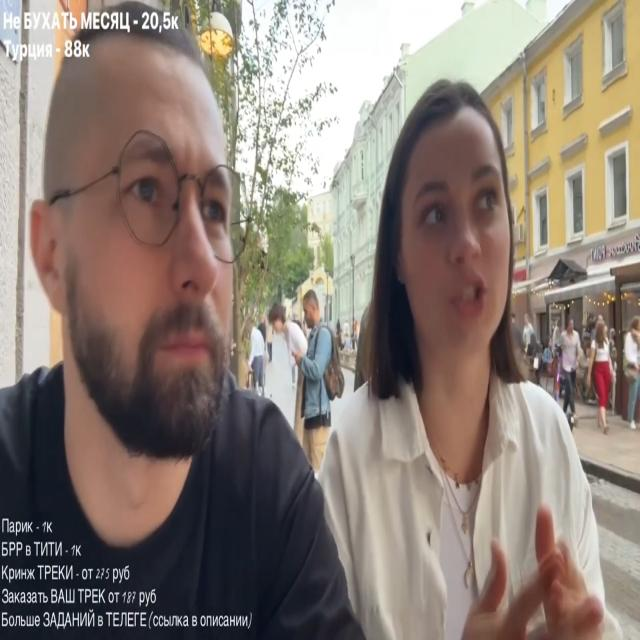Person: (0, 20, 363, 632), (305, 77, 613, 636), (294, 297, 341, 472), (253, 305, 309, 432), (587, 314, 617, 432), (556, 320, 582, 420), (621, 315, 640, 433)
